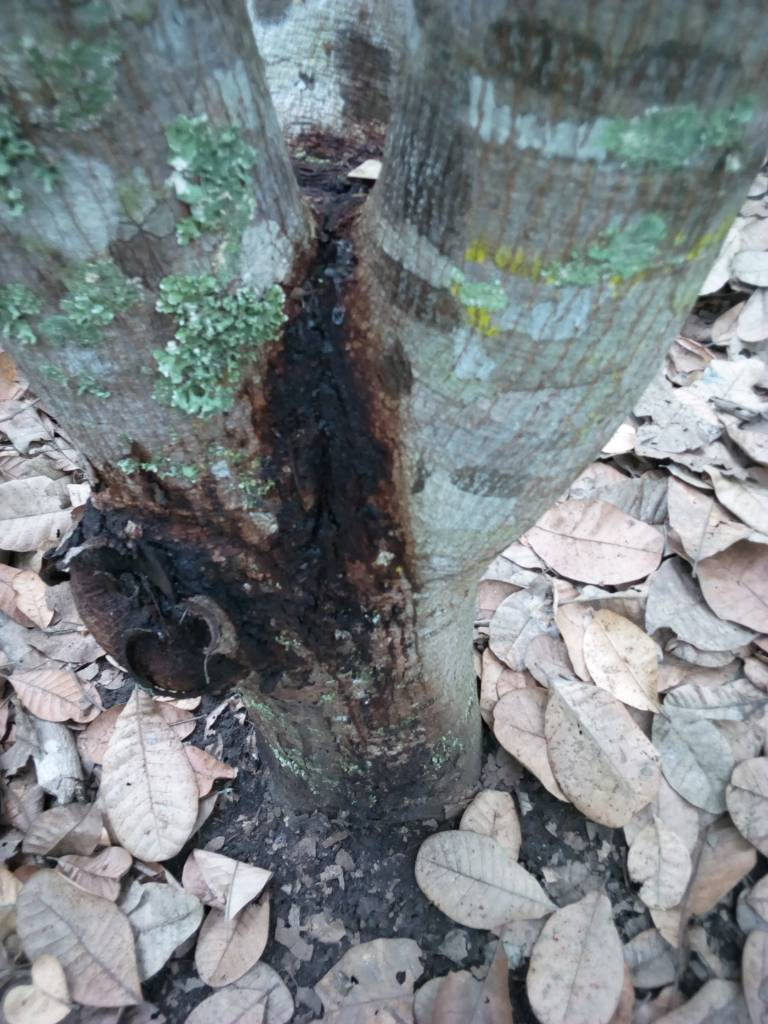Mecocorynus longiceps: (221, 210, 502, 662)
